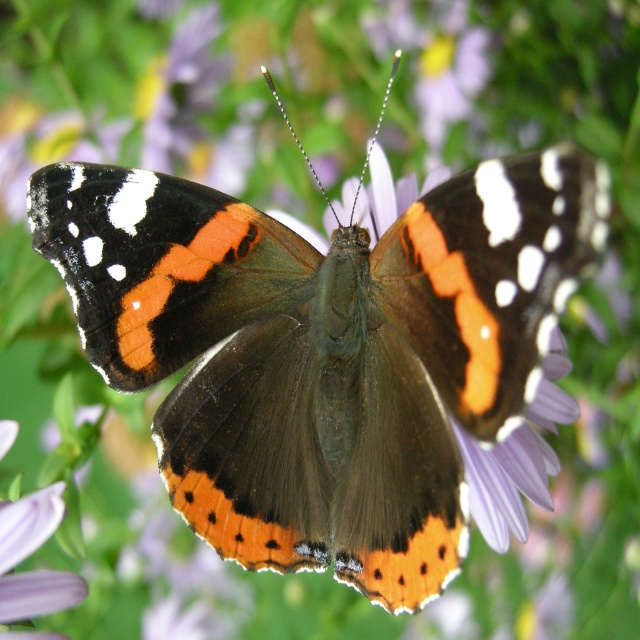Butterfly: (24, 44, 618, 610)
